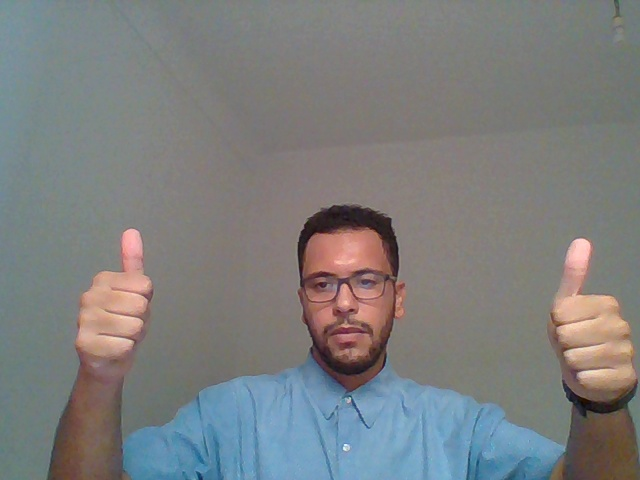ok: (507, 206, 640, 480), (40, 205, 167, 424)
